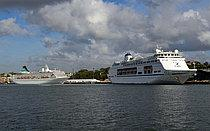Ship: (103, 45, 200, 88)
